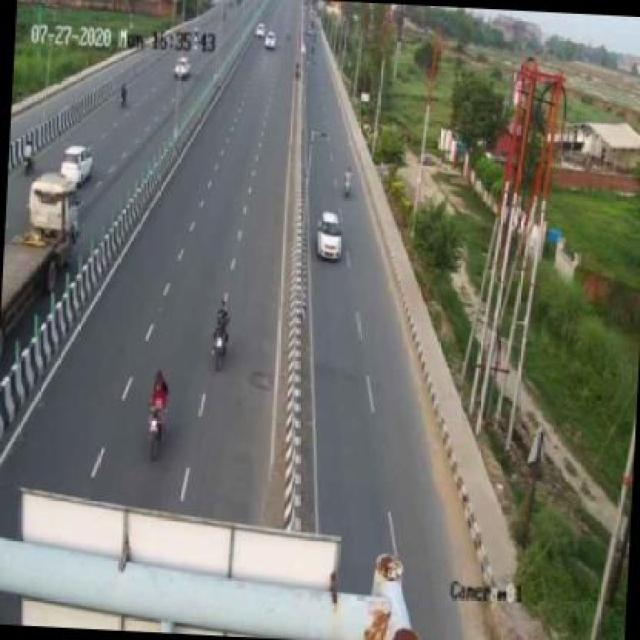car: (312, 211, 348, 260), (58, 137, 94, 178), (263, 28, 282, 50), (252, 18, 268, 42)
